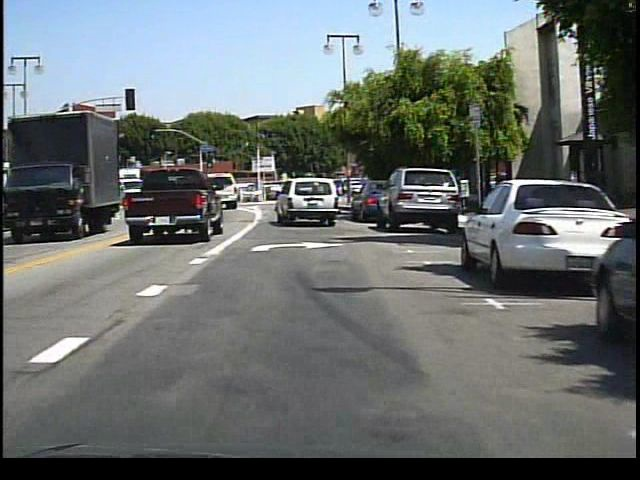person: (336, 180, 350, 205)
